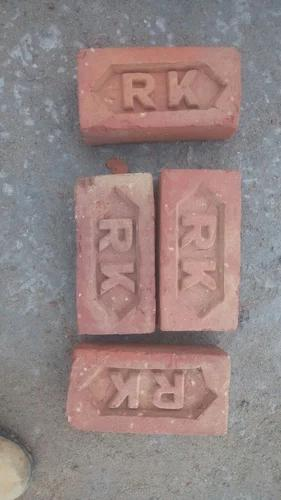brick: (79, 43, 245, 137), (66, 349, 231, 436), (76, 174, 155, 338), (160, 171, 237, 335)
